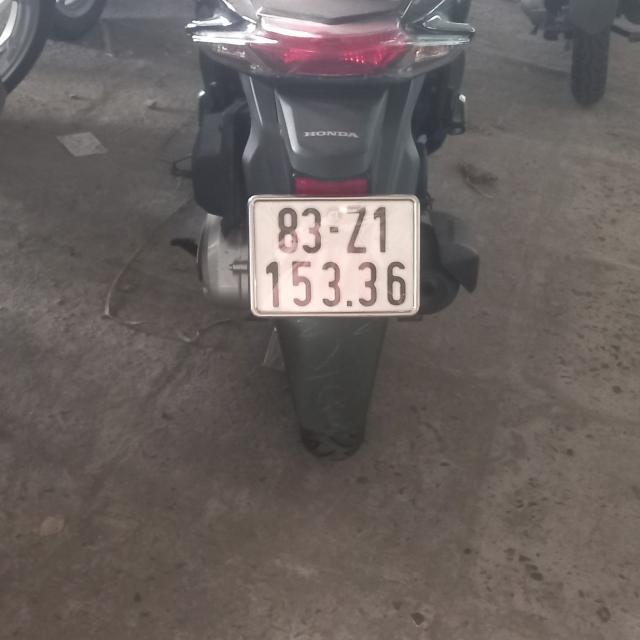1: (372, 205, 387, 252), (265, 262, 280, 308)
3: (302, 207, 322, 253), (358, 262, 377, 308), (322, 262, 340, 306)
5: (292, 260, 312, 306)
6: (387, 261, 407, 307)
8: (278, 207, 298, 253)
Z: (347, 204, 367, 253)
